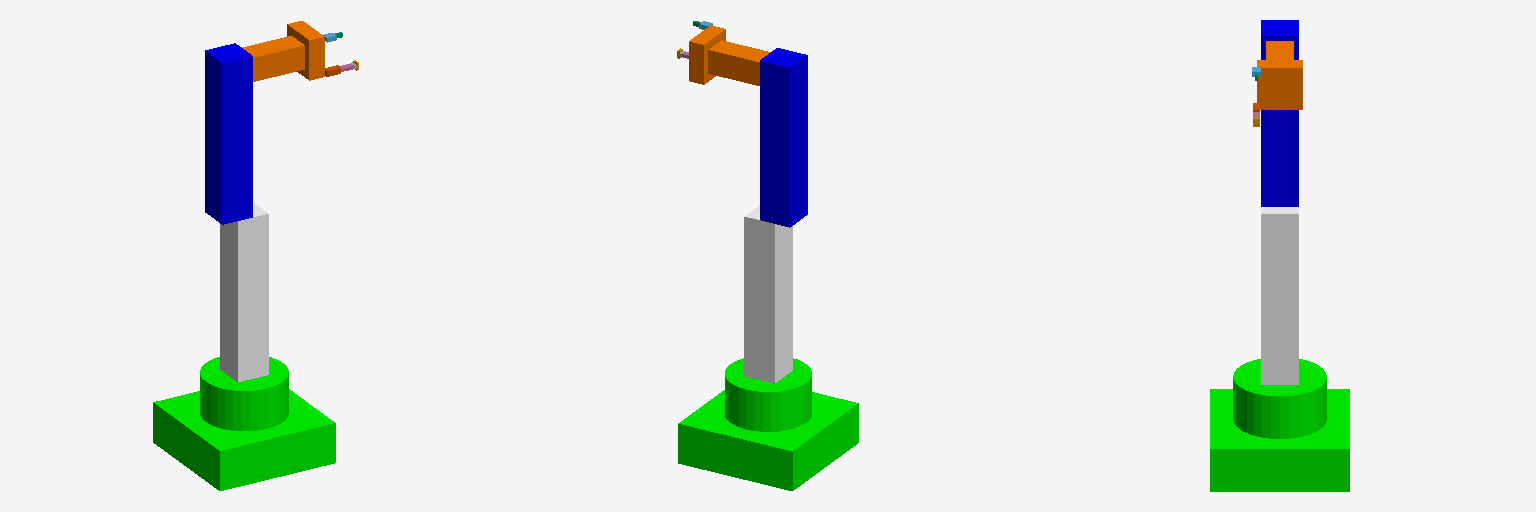
URDF robot description (robot):
<?xml version='1.0' encoding='utf-8'?>
<robot name="robot">
  <link name="base_link">
    <visual>
      <origin xyz="0 0 0.125" rpy="0 0 0" />
      <geometry>
        <box size="0.75 0.75 0.25" />
      </geometry>
      <material name="green" />
    </visual>
    <visual>
      <origin xyz="0 0 0.375" rpy="0 0 0" />
      <geometry>
        <cylinder length="0.25" radius="0.25" />
      </geometry>
      <material name="green">
        <color rgba="0 1 0 1" />
      </material>
    </visual>
    <collision>
      <geometry>
        <box size="0.75 0.75 0.5" />
      </geometry>
    </collision>
    <inertial>
      <mass value="0.5" />
      <inertia ixx="0.034" ixy="0.0" ixz="0.0" iyy="0.034" iyz="0.0" izz="0.034" />
    </inertial>
  </link>
  <link name="support_link">
    <visual>
      <origin xyz="0 0 0.5" rpy="0 0 0" />
      <geometry>
        <box size="0.2 0.2 1" />
      </geometry>
      <material name="white">
        <color rgba="1 1 1 1" />
      </material>
    </visual>
    <collision>
      <geometry>
        <box size="0.2 0.2 1" />
      </geometry>
    </collision>
    <inertial>
      <mass value="0.1" />
      <inertia ixx="0.01" ixy="0.0" ixz="0.0" iyy="0.01" iyz="0.0" izz="0.01" />
    </inertial>
  </link>
  <joint name="support_joint" type="continuous">
    <origin xyz="0 0 0.5" rpy="0 0 0" />
    <parent link="base_link" />
    <child link="support_link" />
    <axis xyz="0 0 1" />
  </joint>
  <link name="arm_link">
    <visual>
      <origin xyz="0 0 0.5" rpy="0 0 0" />
      <geometry>
        <box size="0.2 0.2 1" />
      </geometry>
      <material name="blue">
        <color rgba="0 0 1 1" />
      </material>
    </visual>
    <collision>
      <geometry>
        <box size="0.2 0.2 1" />
      </geometry>
    </collision>
    <inertial>
      <mass value="0.1" />
      <inertia ixx="0.01" ixy="0.0" ixz="0.0" iyy="0.01" iyz="0.0" izz="0.01" />
    </inertial>
  </link>
  <joint name="arm_joint" type="revolute">
    <origin xyz="-0.1 0 1" rpy="0 0 0" />
    <parent link="support_link" />
    <child link="arm_link" />
    <axis xyz="0 1 0" />
    <limit lower="-3.14" upper="3.14" effort="1.0" velocity="1.0" />
  </joint>
  <link name="wrist_link">
    <visual>
      <origin xyz="0 0 0.25" rpy="0 0 0" />
      <geometry>
        <box size="0.15 0.15 0.5" />
      </geometry>
      <material name="orange">
        <color rgba="1 0.5 0 1" />
      </material>
    </visual>
    <collision>
      <geometry>
        <box size="0.15 0.15 0.5" />
      </geometry>
    </collision>
    <inertial>
      <mass value="0.1" />
      <inertia ixx="0.01" ixy="0.0" ixz="0.0" iyy="0.01" iyz="0.0" izz="0.01" />
    </inertial>
  </link>
  <joint name="wrist_joint" type="fixed">
    <origin xyz="0 0 0.9" rpy="0 1.571 0" />
    <parent link="arm_link" />
    <child link="wrist_link" />
  </joint>
  <link name="palm_link">
    <visual>
      <origin xyz="0 0 0.05" rpy="0 0 0" />
      <geometry>
        <box size="0.25 0.25 0.1" />
      </geometry>
      <material name="orange" />
    </visual>
    <collision>
      <geometry>
        <box size="0.25 0.25 0.1" />
      </geometry>
    </collision>
    <inertial>
      <mass value="0.1" />
      <inertia ixx="0.01" ixy="0.0" ixz="0.0" iyy="0.01" iyz="0.0" izz="0.01" />
    </inertial>
  </link>
  <joint name="palm_joint" type="fixed">
    <origin xyz="0 0 0.45" rpy="0 0 0" />
    <parent link="wrist_link" />
    <child link="palm_link" />
  </joint>
  <link name="finger_link_0_0">
    <visual>
      <origin xyz="0 0 0.048" rpy="0 0 0" />
      <geometry>
        <box size="0.038 0.039 0.096" />
      </geometry>
    </visual>
    <collision>
      <geometry>
        <box size="0.038 0.039 0.096" />
      </geometry>
    </collision>
    <inertial>
      <mass value="0.043" />
      <inertia ixx="0.0" iyy="0.0" izz="0.0" ixy="0" ixz="0" iyz="0" />
    </inertial>
  </link>
  <joint name="finger_joint_palm_link_to_finger_link_0_0" type="revolute">
    <origin xyz="0.099 -0.125 0.1" rpy="0 0 0" />
    <parent link="palm_link" />
    <child link="finger_link_0_0" />
    <axis xyz="0.0 1.0 0.0" />
    <limit lower="-3.142" upper="3.142" effort="10" velocity="10" />
  </joint>
  <link name="finger_link_0_1">
    <visual>
      <origin xyz="0 0 0.0405" rpy="0 0 0" />
      <geometry>
        <box size="0.021 0.038 0.081" />
      </geometry>
    </visual>
    <collision>
      <geometry>
        <box size="0.021 0.038 0.081" />
      </geometry>
    </collision>
    <inertial>
      <mass value="0.019" />
      <inertia ixx="0.0" iyy="0.0" izz="0.0" ixy="0" ixz="0" iyz="0" />
    </inertial>
  </link>
  <joint name="finger_joint_finger_link_0_0_to_finger_link_0_1" type="revolute">
    <origin xyz="0.0 0.0 0.096" rpy="0 0 0" />
    <parent link="finger_link_0_0" />
    <child link="finger_link_0_1" />
    <axis xyz="0.0 1.0 0.0" />
    <limit lower="-3.142" upper="3.142" effort="10" velocity="10" />
  </joint>
  <link name="finger_link_0_2">
    <visual>
      <origin xyz="0 0 0.0085" rpy="0 0 0" />
      <geometry>
        <box size="0.024 0.042 0.017" />
      </geometry>
    </visual>
    <collision>
      <geometry>
        <box size="0.024 0.042 0.017" />
      </geometry>
    </collision>
    <inertial>
      <mass value="0.005" />
      <inertia ixx="0.0" iyy="0.0" izz="0.0" ixy="0" ixz="0" iyz="0" />
    </inertial>
  </link>
  <joint name="finger_joint_finger_link_0_1_to_finger_link_0_2" type="revolute">
    <origin xyz="0.0 0.0 0.081" rpy="0 0 0" />
    <parent link="finger_link_0_1" />
    <child link="finger_link_0_2" />
    <axis xyz="0.0 1.0 0.0" />
    <limit lower="-3.142" upper="3.142" effort="10" velocity="10" />
  </joint>
  <link name="finger_link_0_3">
    <visual>
      <origin xyz="0 0 0.0075" rpy="0 0 0" />
      <geometry>
        <box size="0.047 0.038 0.015" />
      </geometry>
    </visual>
    <collision>
      <geometry>
        <box size="0.047 0.038 0.015" />
      </geometry>
    </collision>
    <inertial>
      <mass value="0.008" />
      <inertia ixx="0.0" iyy="0.0" izz="0.0" ixy="0" ixz="0" iyz="0" />
    </inertial>
  </link>
  <joint name="finger_joint_finger_link_0_2_to_finger_link_0_3" type="revolute">
    <origin xyz="0.0 0.0 0.017" rpy="0 0 0" />
    <parent link="finger_link_0_2" />
    <child link="finger_link_0_3" />
    <axis xyz="0.0 1.0 0.0" />
    <limit lower="-3.142" upper="3.142" effort="10" velocity="10" />
  </joint>
  <link name="finger_link_1_0">
    <visual>
      <origin xyz="0 0 0.031" rpy="0 0 0" />
      <geometry>
        <box size="0.029 0.049 0.062" />
      </geometry>
    </visual>
    <collision>
      <geometry>
        <box size="0.029 0.049 0.062" />
      </geometry>
    </collision>
    <inertial>
      <mass value="0.026" />
      <inertia ixx="0.0" iyy="0.0" izz="0.0" ixy="0" ixz="0" iyz="0" />
    </inertial>
  </link>
  <joint name="finger_joint_palm_link_to_finger_link_1_0" type="revolute">
    <origin xyz="-0.113 -0.125 0.1" rpy="0 0 0" />
    <parent link="palm_link" />
    <child link="finger_link_1_0" />
    <axis xyz="0.0 1.0 0.0" />
    <limit lower="-3.142" upper="3.142" effort="10" velocity="10" />
  </joint>
  <link name="finger_link_1_1">
    <visual>
      <origin xyz="0 0 0.024" rpy="0 0 0" />
      <geometry>
        <box size="0.025 0.019 0.048" />
      </geometry>
    </visual>
    <collision>
      <geometry>
        <box size="0.025 0.019 0.048" />
      </geometry>
    </collision>
    <inertial>
      <mass value="0.007" />
      <inertia ixx="0.0" iyy="0.0" izz="0.0" ixy="0" ixz="0" iyz="0" />
    </inertial>
  </link>
  <joint name="finger_joint_finger_link_1_0_to_finger_link_1_1" type="revolute">
    <origin xyz="0.0 0.0 0.062" rpy="0 0 0" />
    <parent link="finger_link_1_0" />
    <child link="finger_link_1_1" />
    <axis xyz="0.0 1.0 0.0" />
    <limit lower="-3.142" upper="3.142" effort="10" velocity="10" />
  </joint>
</robot>

--- Facts derived from the render (not from the file) ---
Views: 3 orthographic renders of the robot side by side, from view 1: azimuth 30°, elevation 25°; view 2: azimuth 150°, elevation 25°; view 3: azimuth 270°, elevation 25°.
Model robot with 11 links and 10 joints (7 revolute, 1 continuous, 2 fixed), rooted at base_link, posed every joint at zero.
Links seen in each view (by area): view 1: base_link, arm_link, support_link, wrist_link, palm_link; view 2: base_link, arm_link, support_link, wrist_link, palm_link; view 3: base_link, support_link, arm_link, palm_link, wrist_link.
Boxes of the visible links, x1,y1,x2,y2 form: base_link: [153, 357, 335, 490]; arm_link: [205, 43, 252, 224]; support_link: [220, 203, 268, 381]; wrist_link: [243, 36, 304, 81]; palm_link: [287, 21, 324, 80]; base_link: [678, 358, 858, 490]; arm_link: [760, 48, 807, 227]; support_link: [744, 205, 792, 383]; wrist_link: [708, 40, 770, 85]; palm_link: [689, 25, 725, 84]; base_link: [1210, 359, 1349, 491]; support_link: [1261, 207, 1298, 384]; arm_link: [1261, 20, 1298, 206]; palm_link: [1257, 60, 1302, 109]; wrist_link: [1266, 41, 1293, 59].
Size in the robot's own frame: 1.03 by 0.75 by 2.53 metres.
Geometry: primitives only (box / cylinder / sphere), no mesh files.